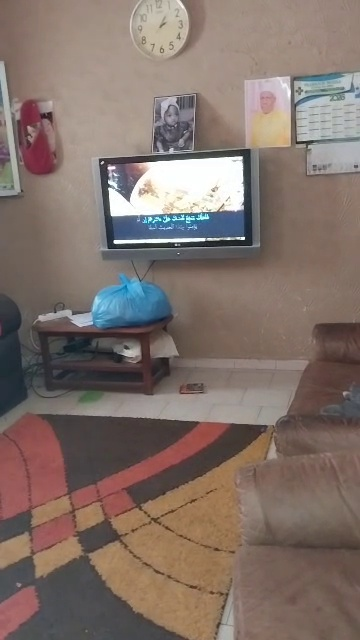television: (85, 149, 271, 263)
